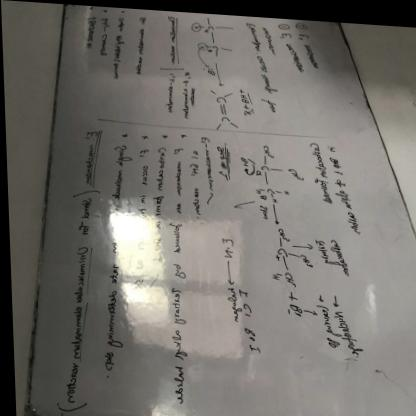Handwritten text: (94, 140, 132, 372), (56, 192, 91, 405), (158, 155, 186, 406), (298, 129, 334, 205), (147, 140, 167, 252), (129, 160, 148, 271)
Whiteboard: (21, 3, 416, 416)
